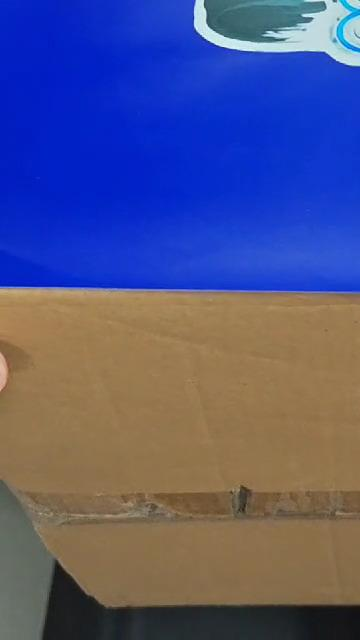B_R1: (55, 0, 360, 99)
